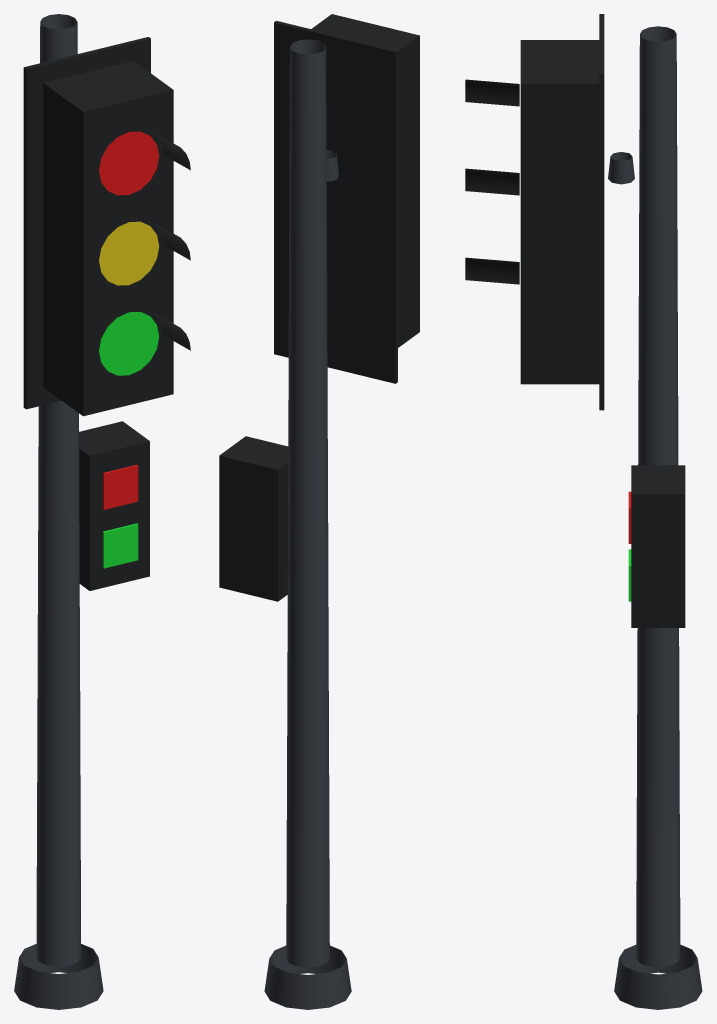
Rendered from TrafficLight_Modern.obj.
3 renders of one model, left to right at view 1: azimuth 30°, elevation 25°; view 2: azimuth 150°, elevation 25°; view 3: azimuth 270°, elevation 25°, orthographic. The views are drawn at different scales.
Bounding box in the file's own units: 0.65 × 4.3 × 0.965.
